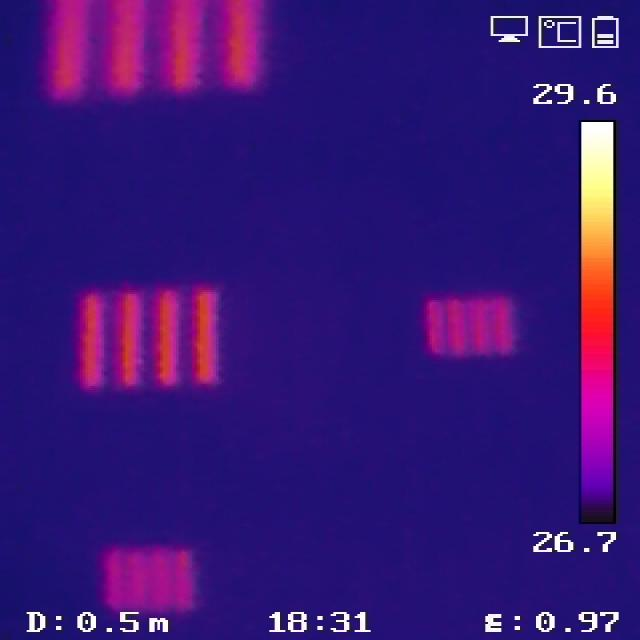Distinguishable 4-bar target: (32, 2, 273, 92), (68, 284, 232, 387)
threshold 4-bar target: (420, 293, 520, 358), (102, 547, 194, 610)
